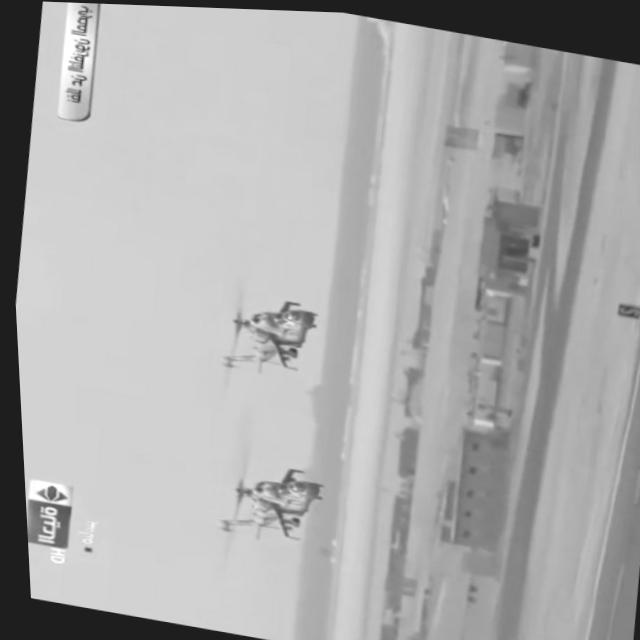helikopter: (190, 434, 332, 558), (187, 279, 333, 383)
